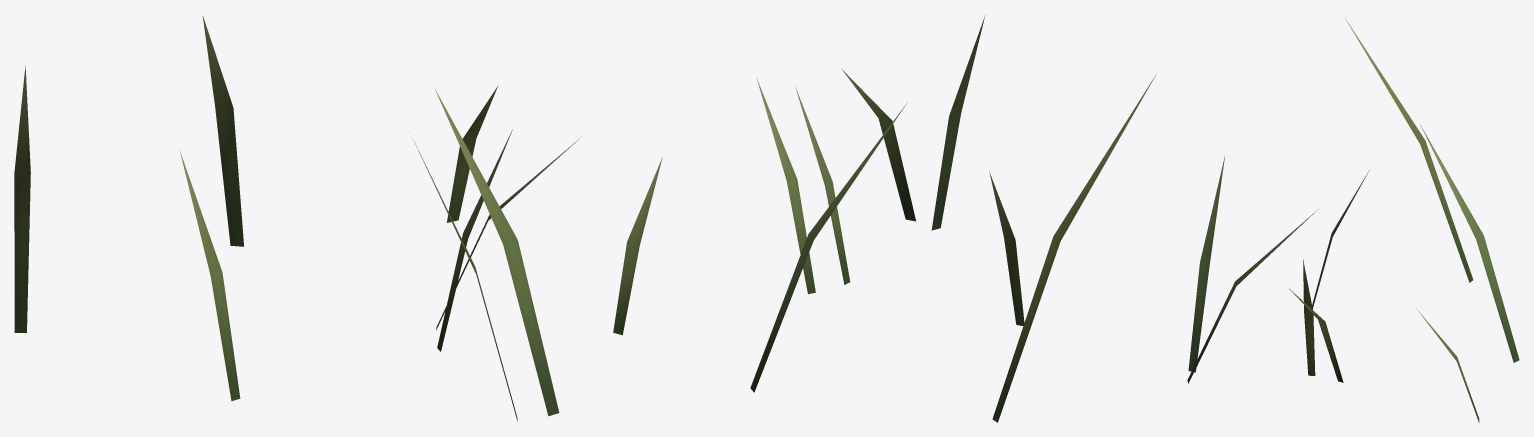
File: meadow_fine_far.gltf
3 views of the same model, side by side, from view 1: azimuth 30°, elevation 25°; view 2: azimuth 150°, elevation 25°; view 3: azimuth 270°, elevation 25° (orthographic). The views are drawn at different scales.
Parts seen in each view (by area): view 1: meadow_fine_far; view 2: meadow_fine_far; view 3: meadow_fine_far.
Part boxes in pixels (left/top/right/bottom): meadow_fine_far: left=14, top=15, right=581, bottom=422; meadow_fine_far: left=613, top=15, right=1156, bottom=422; meadow_fine_far: left=1187, top=17, right=1519, bottom=422.
Size of the model in its own units: 1.06 by 0.6864 by 0.87.
Materials: 2 (2 with a texture image).
